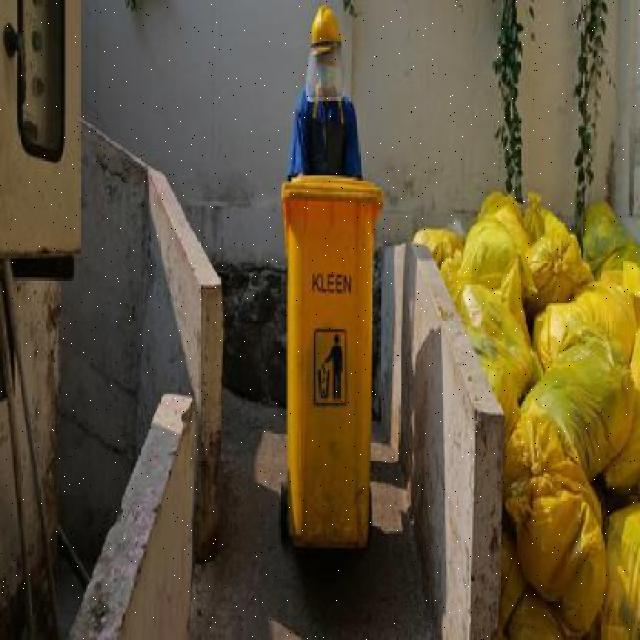garbage container: (274, 166, 391, 568)
